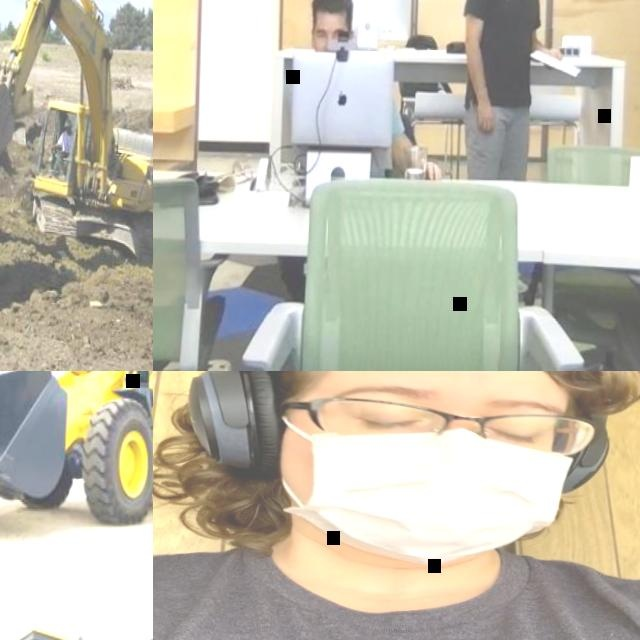Hardhat: (64, 118, 73, 126)
Mask: (275, 418, 582, 562)
NO-Hardhat: (310, 0, 356, 24)
NO-Mask: (66, 129, 72, 135)
NO-Safety Vest: (153, 537, 640, 640), (461, 0, 541, 110), (62, 132, 73, 153)
Person: (153, 371, 640, 640), (305, 0, 450, 179), (459, 0, 564, 178), (51, 118, 76, 172)
machinery: (0, 0, 153, 357), (0, 0, 153, 272), (0, 371, 153, 528)
